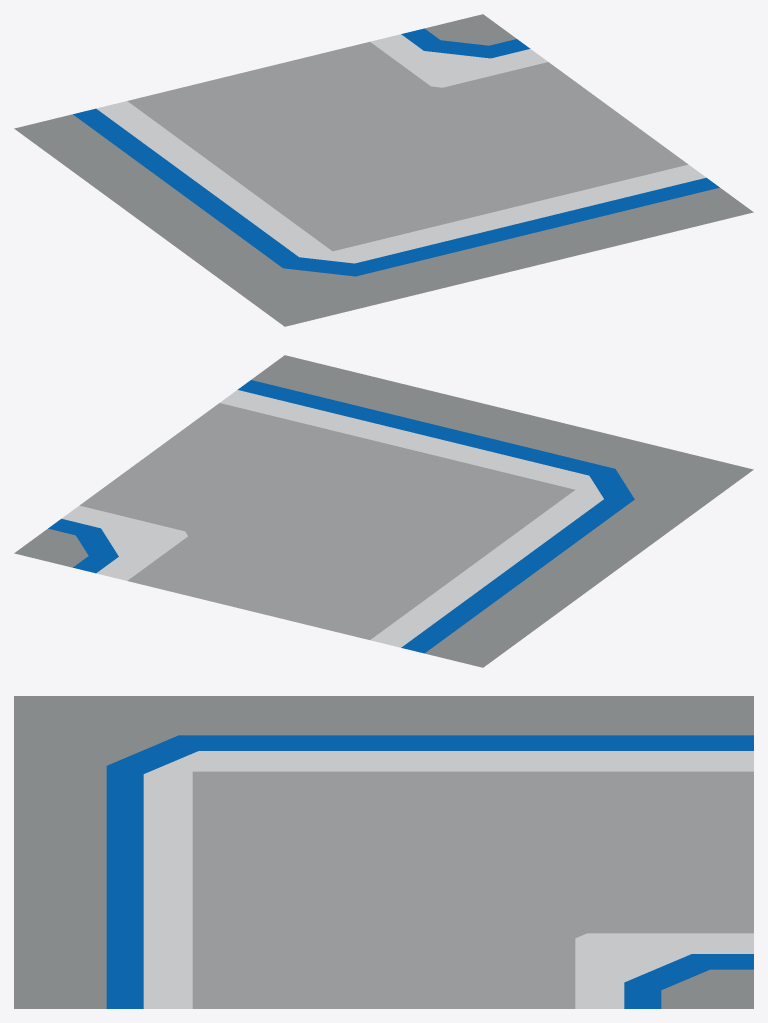
Rendered from Ceiling_type_A_033.fbx.
3 views of the same model, one above another, from view 1: azimuth 30°, elevation 25°; view 2: azimuth 150°, elevation 25°; view 3: azimuth 270°, elevation 25° (orthographic). The views are drawn at different scales.
Parts seen in each view (by area): view 1: Ceiling_type_A_033; view 2: Ceiling_type_A_033; view 3: Ceiling_type_A_033.
Boxes of the visible parts, left/top/right/bottom form: Ceiling_type_A_033: left=14, top=14, right=753, bottom=326; Ceiling_type_A_033: left=14, top=355, right=753, bottom=667; Ceiling_type_A_033: left=14, top=696, right=753, bottom=1008.
Bounding box in the file's own units: 400 × 400 × 6.18.
